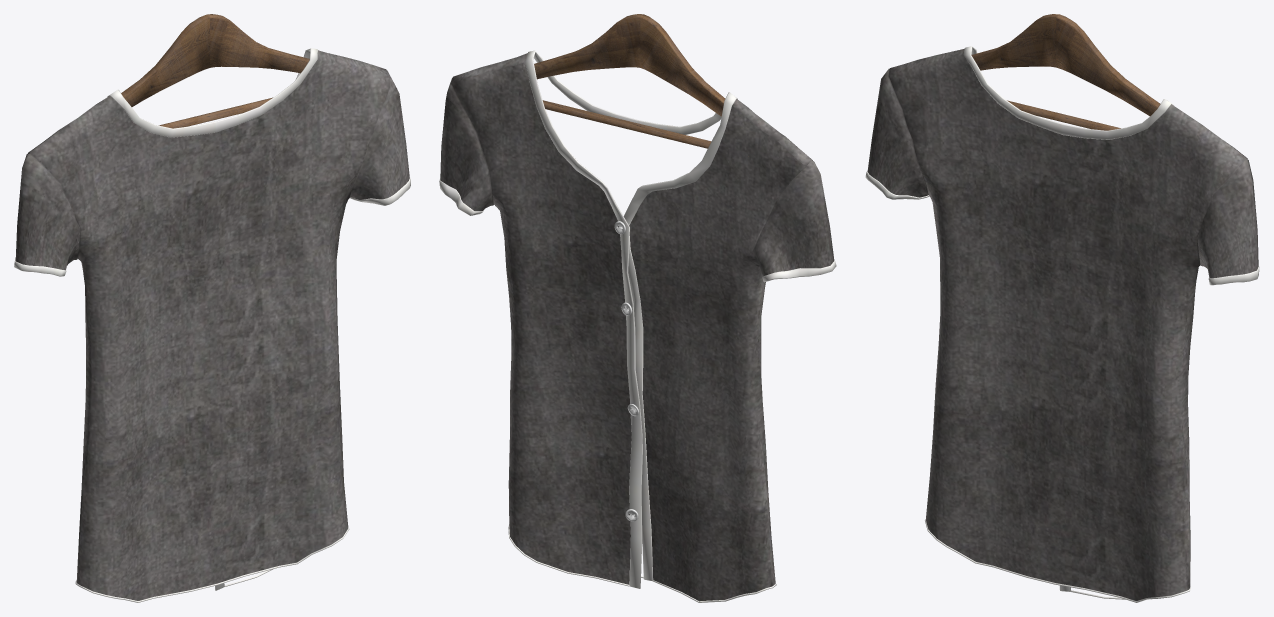
File: hvtop_Clothes_12.glb
3 renders of one model, left to right at view 1: azimuth 30°, elevation 25°; view 2: azimuth 150°, elevation 25°; view 3: azimuth 330°, elevation 25°, orthographic.
Visible parts, largest first — view 1: BP_Clothes_12; view 2: BP_Clothes_12; view 3: BP_Clothes_12.
Boxes of the visible parts, x1,y1,x2,y2 form: BP_Clothes_12: (14, 14, 410, 602); BP_Clothes_12: (439, 14, 836, 602); BP_Clothes_12: (865, 14, 1259, 602).
Size of the model in its own units: 0.4858 by 0.681 by 0.0732.
Materials: 4 (3 with a texture image).
